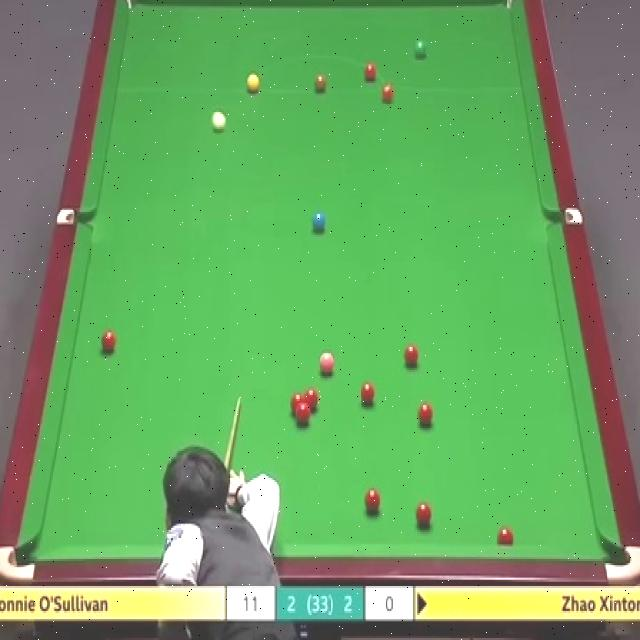blue-ball: (311, 210, 326, 234)
brown-ball: (312, 71, 327, 94)
green-ball: (412, 40, 428, 60)
pink-ball: (319, 348, 335, 376)
red-ball: (403, 342, 420, 372), (100, 328, 118, 356), (414, 502, 432, 529), (364, 487, 381, 514), (359, 381, 375, 407), (378, 83, 395, 107), (417, 400, 432, 426), (305, 388, 319, 414), (497, 526, 514, 546), (297, 405, 310, 426), (291, 392, 304, 413), (363, 62, 377, 81)
white-ball: (209, 110, 227, 135)
yellow-ball: (246, 72, 260, 92)
